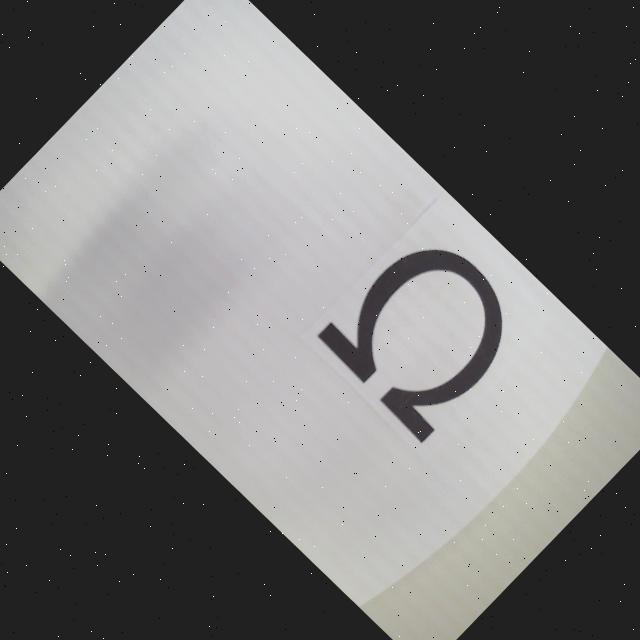OMEGA: (314, 222, 536, 443)
